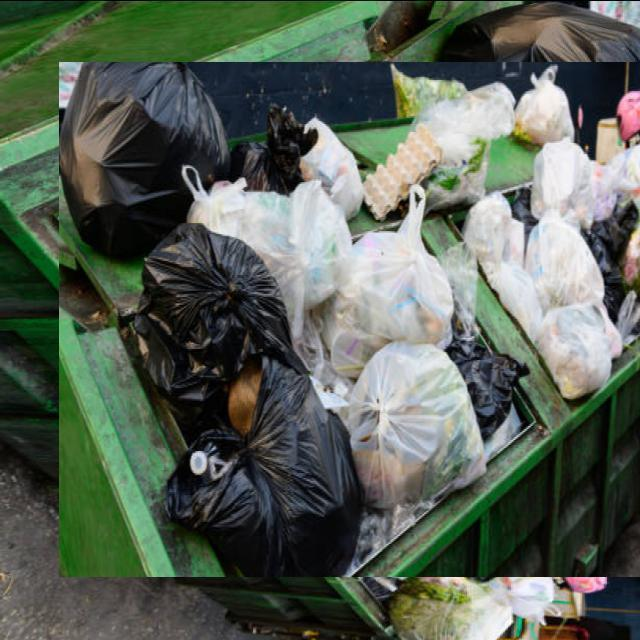Trashbag: (162, 369, 359, 577), (121, 222, 310, 404), (62, 61, 226, 265), (240, 109, 324, 197), (452, 347, 521, 429)
